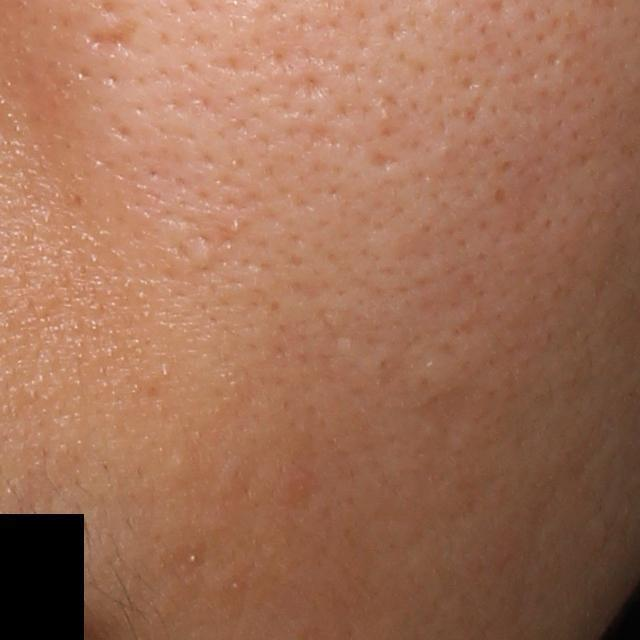atrophic_scar: (87, 20, 141, 58), (293, 72, 332, 97), (364, 148, 404, 172)
comedo: (225, 217, 245, 235)
